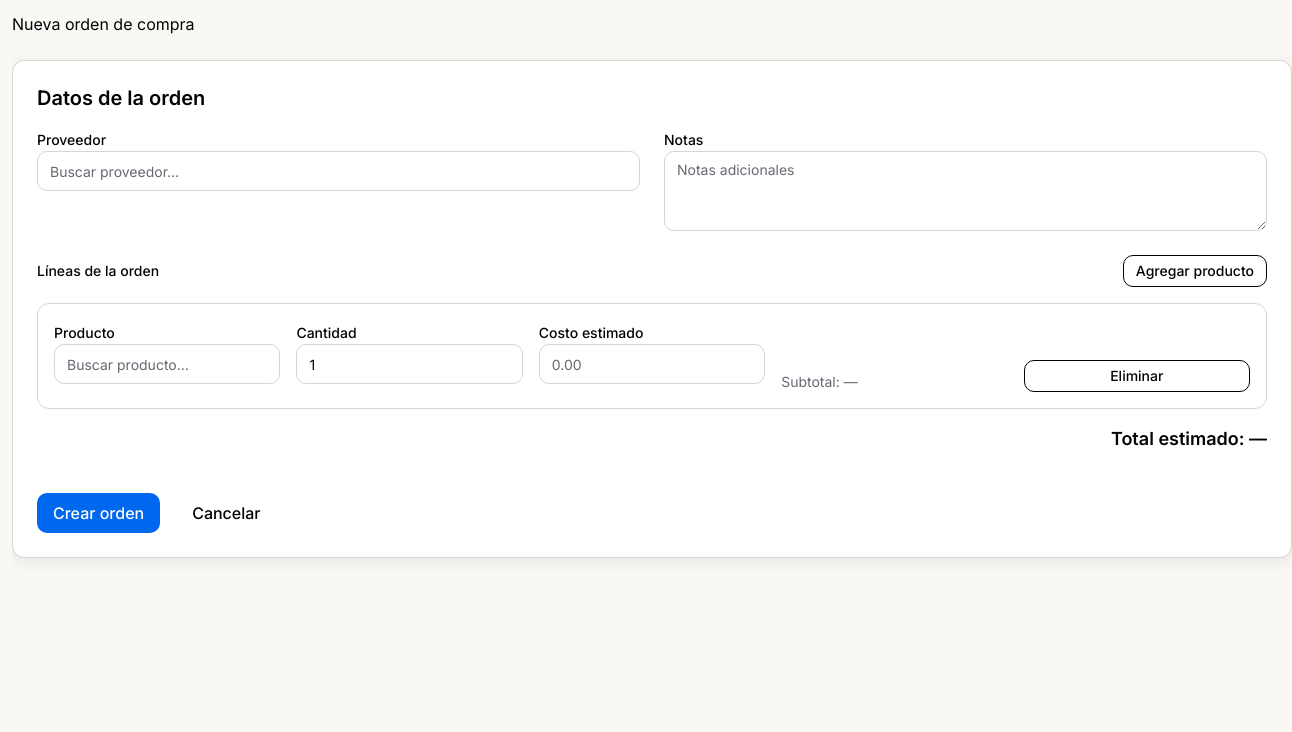
Scenario: PurchaseOrderFormPage — create mode › adds and removes product lines
Expected: the dropdown labelled "Producto" is shown, [54,344,280,384]
Click the button "Agregar producto" at coordinates (1195, 271), box [1123,255,1267,287]
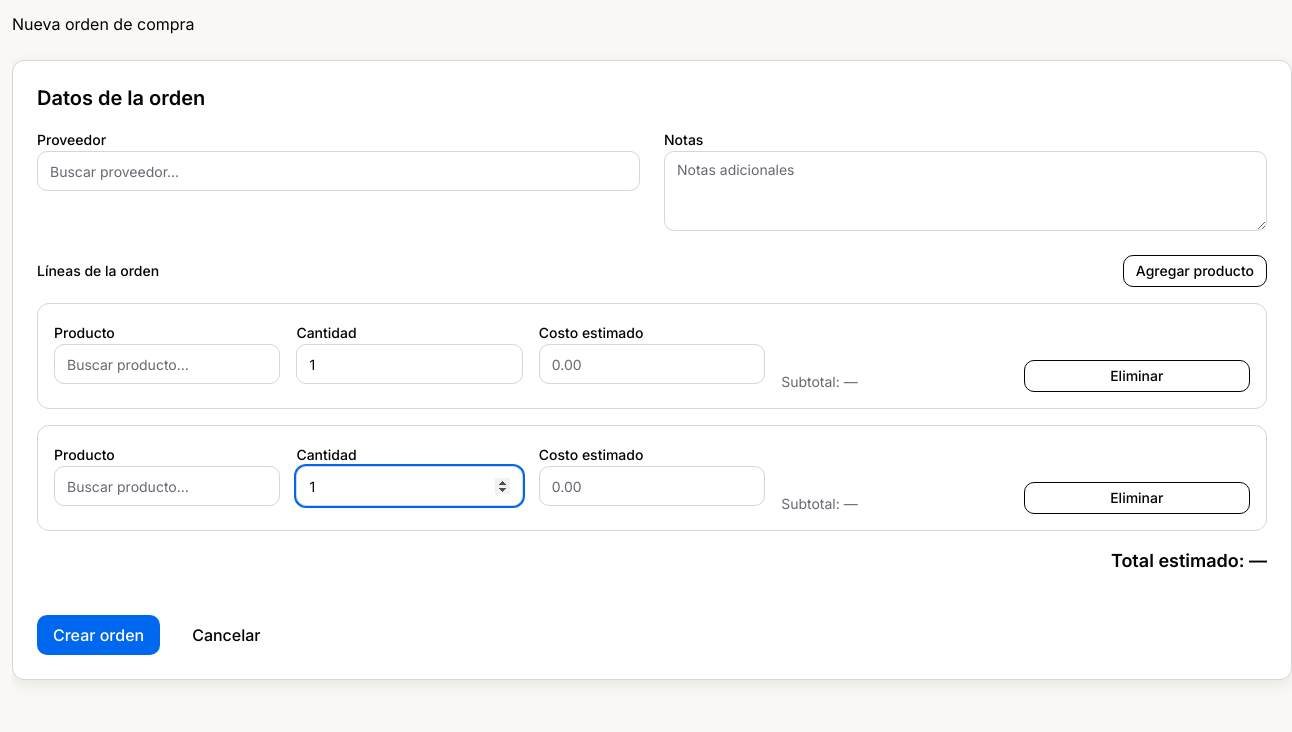
Expected: the number of dropdowns labelled "Producto" is 2, [54,344,280,384]; [54,466,280,506]
Click the 2nd button "Eliminar" at coordinates (1137, 498), box [1024,482,1250,514]
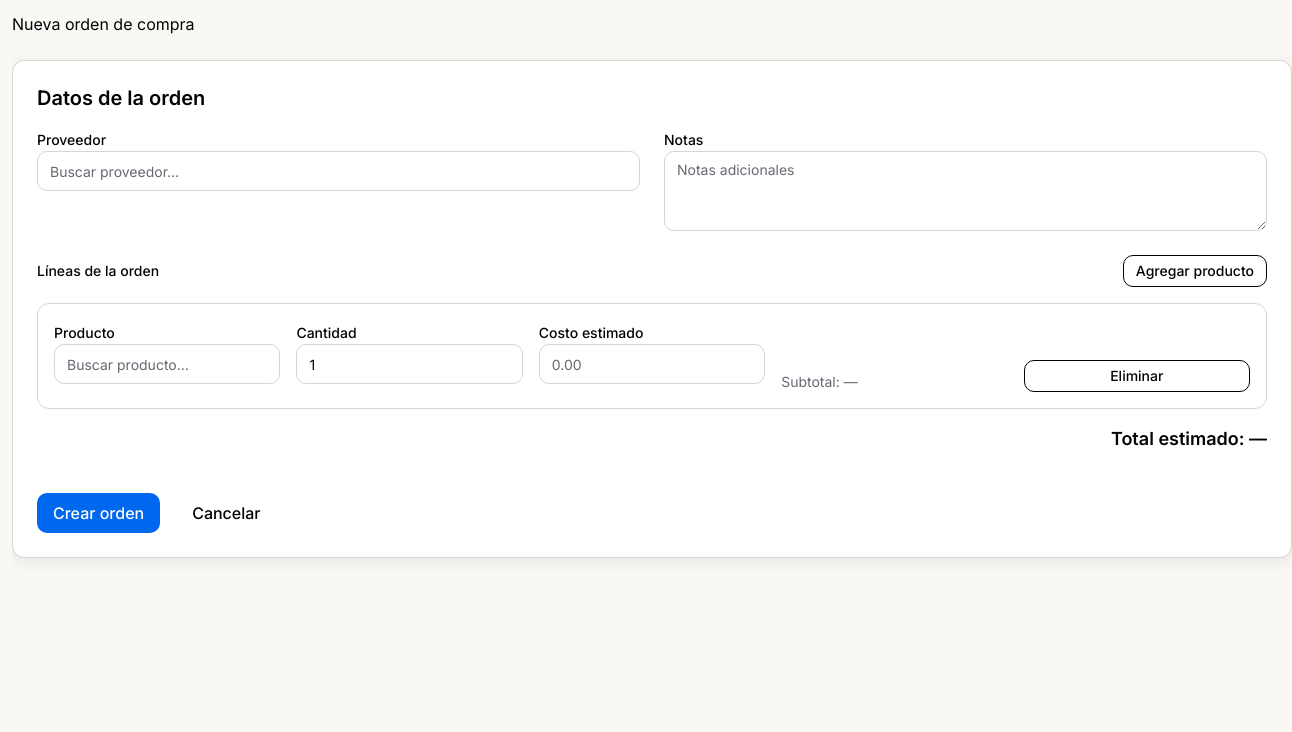
Expected: the number of dropdowns labelled "Producto" is 1, [54,344,280,384]
